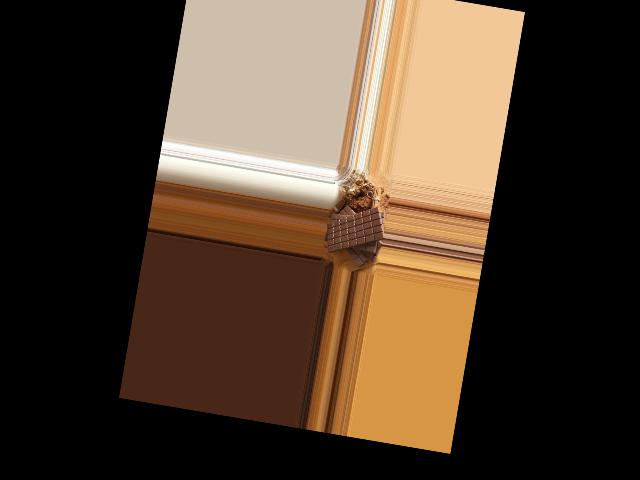chocolate: (324, 196, 389, 261)
